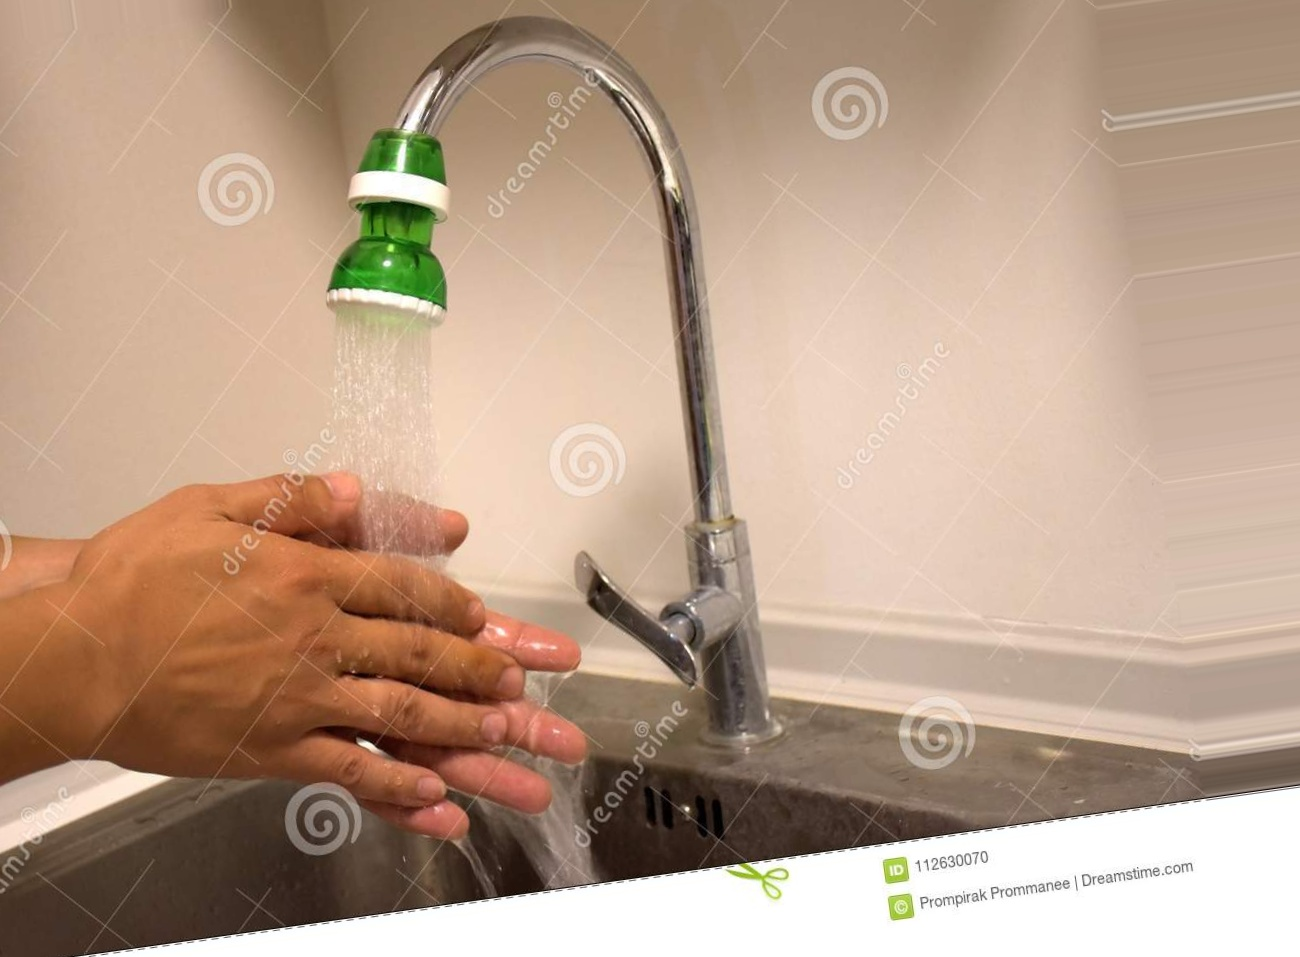washing hand: (60, 0, 813, 902)
